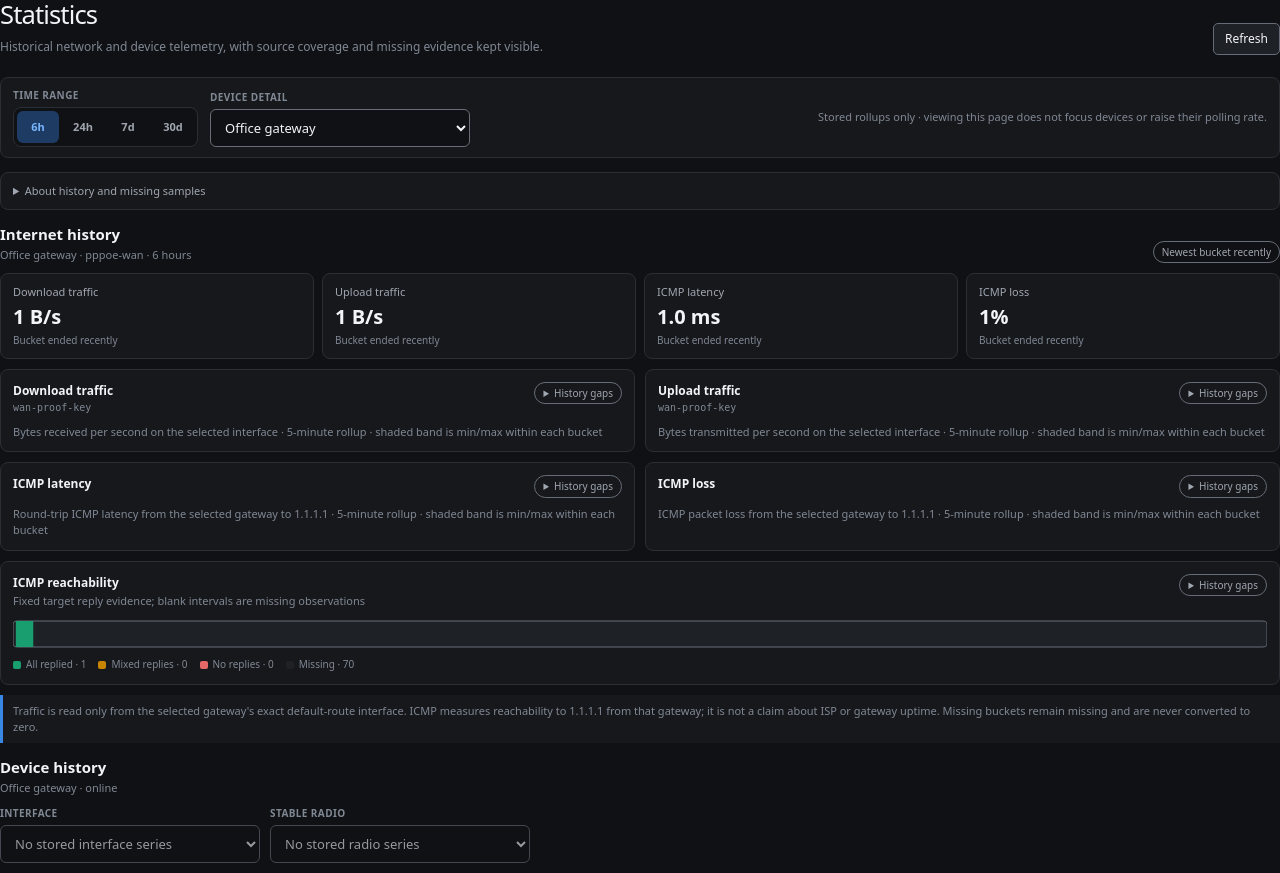
Test: Statistics › keeps partial history neutral and discloses exact missing counts and remedies on demand
This screenshot has width=1280, height=873.
Click the heading named "Download traffic history coverage".
click(578, 393)  # box x1=534 y1=382 x2=622 y2=404
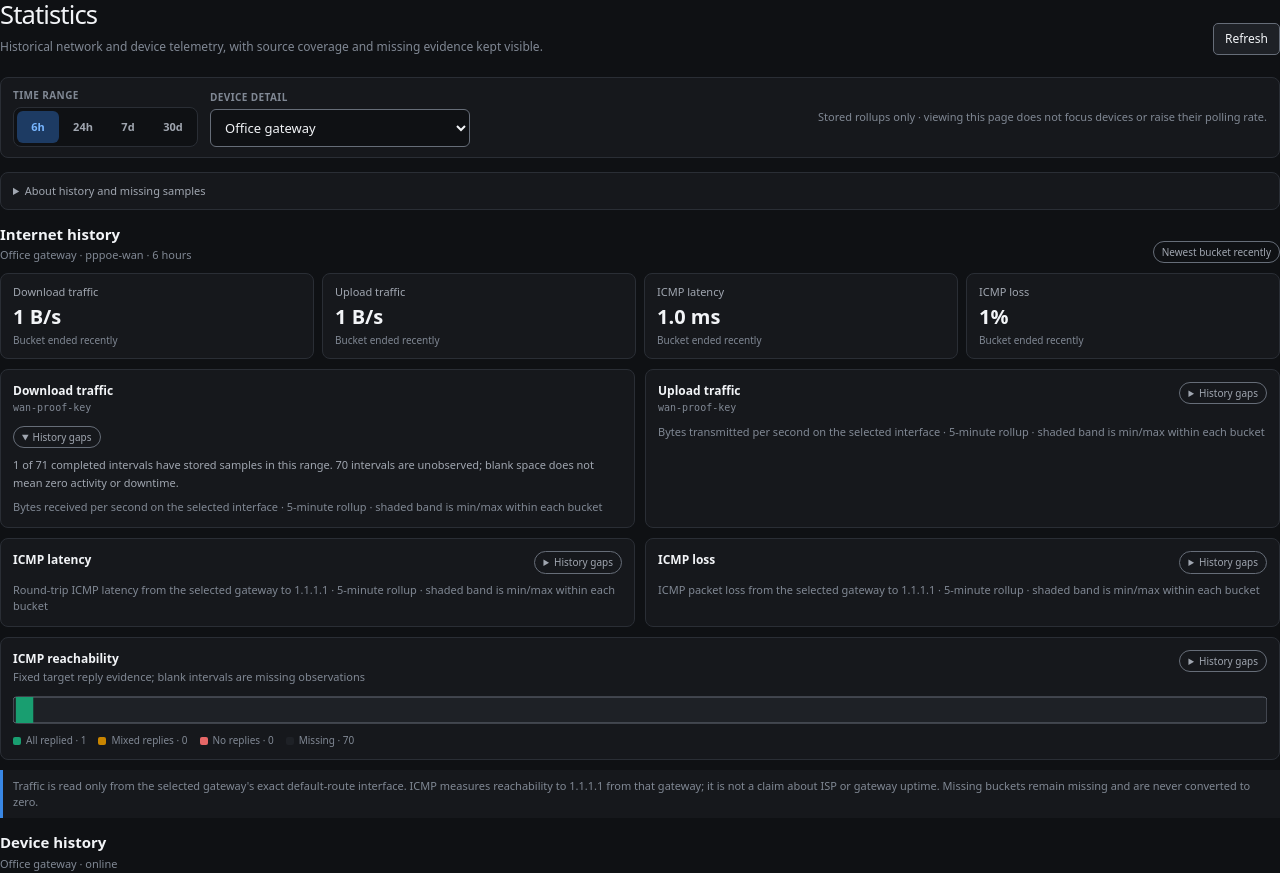
Result: the element named "Download traffic history coverage" shows "blank space does not mean zero activity or downtime" at x1=13 y1=457 x2=594 y2=490
Click the heading "About history and missing samples".
click(109, 191)  # box x1=13 y1=183 x2=206 y2=198
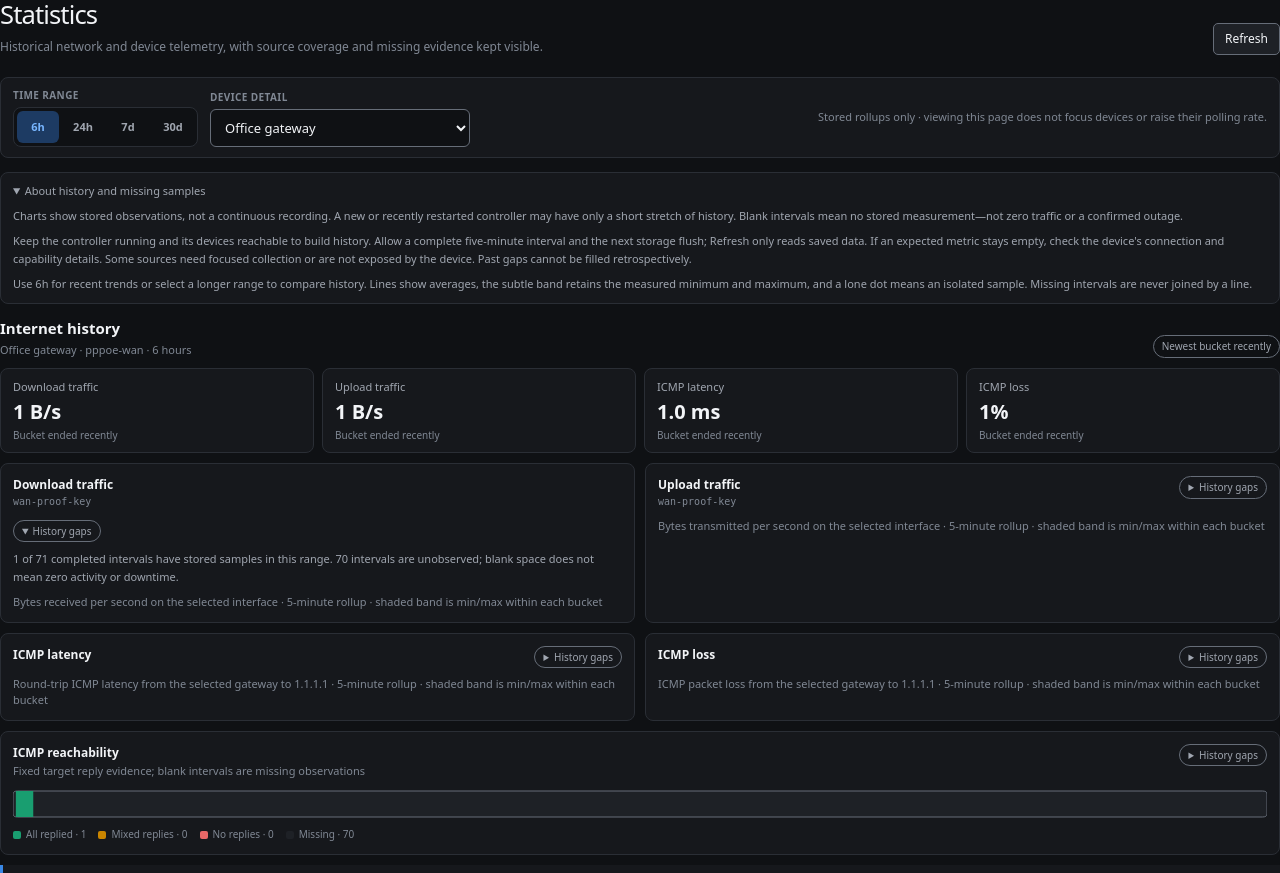
Result: the text "About history and missing samples" shows "Keep the controller running and its devices reachable" at x1=13 y1=233 x2=1224 y2=266
